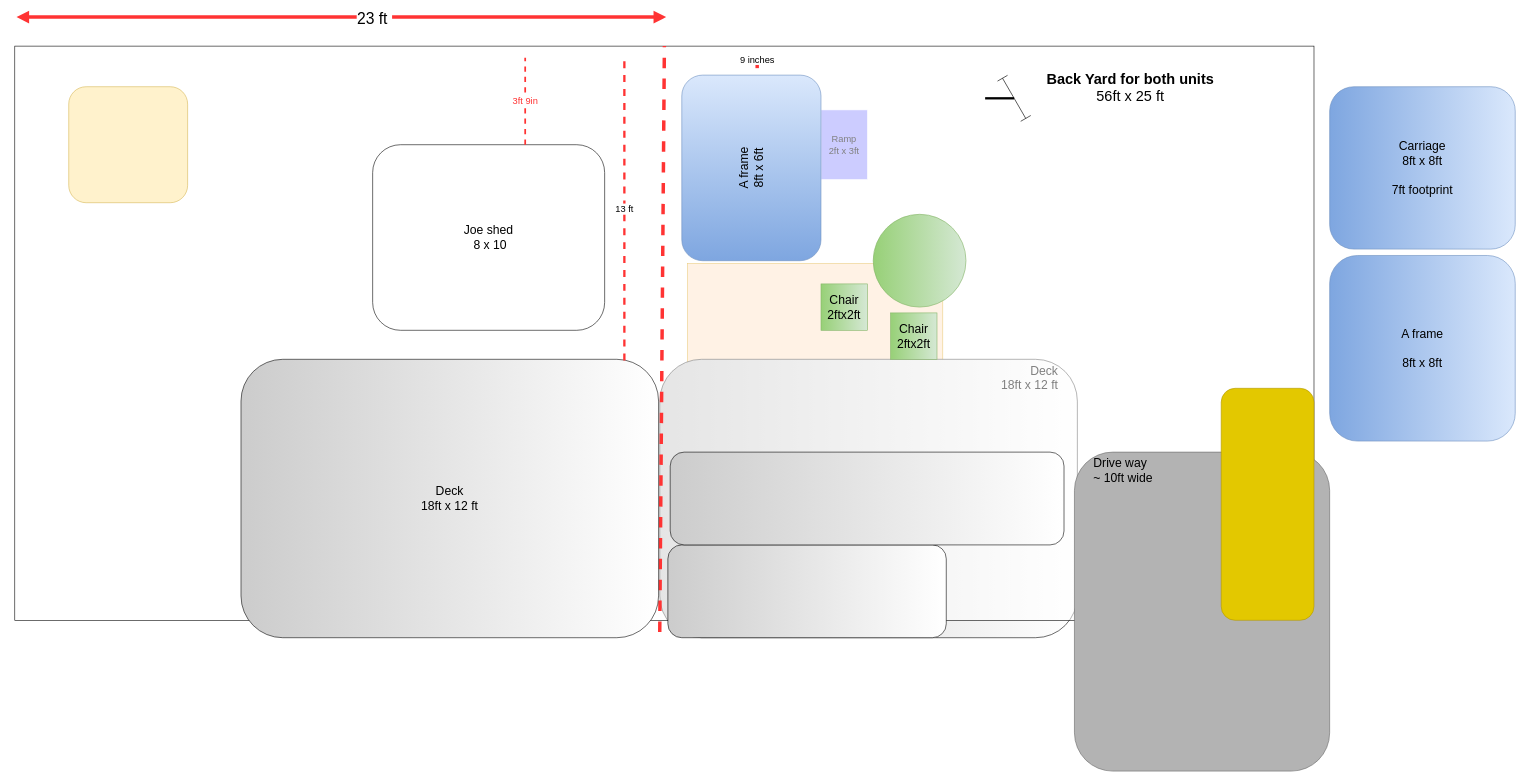
The diagram is 1525 pixels wide and 781 high, and some of its shapes have lost their labels. The centre of each missing label's shape, as x and y in pixels:
"Jet SKi ~10ft x 4ft" goes at point (1267, 504).
"Shower & Storage ~4ft x 12 ft" goes at point (806, 591).
"Table 4ft diameter" goes at point (919, 260).
"Text Scaling Order of 40 2000px = 50ft 500px = 12.5ft 320px = 8ft" goes at point (128, 144).
"Walk way ~4ft x 16ft" goes at point (867, 498).
